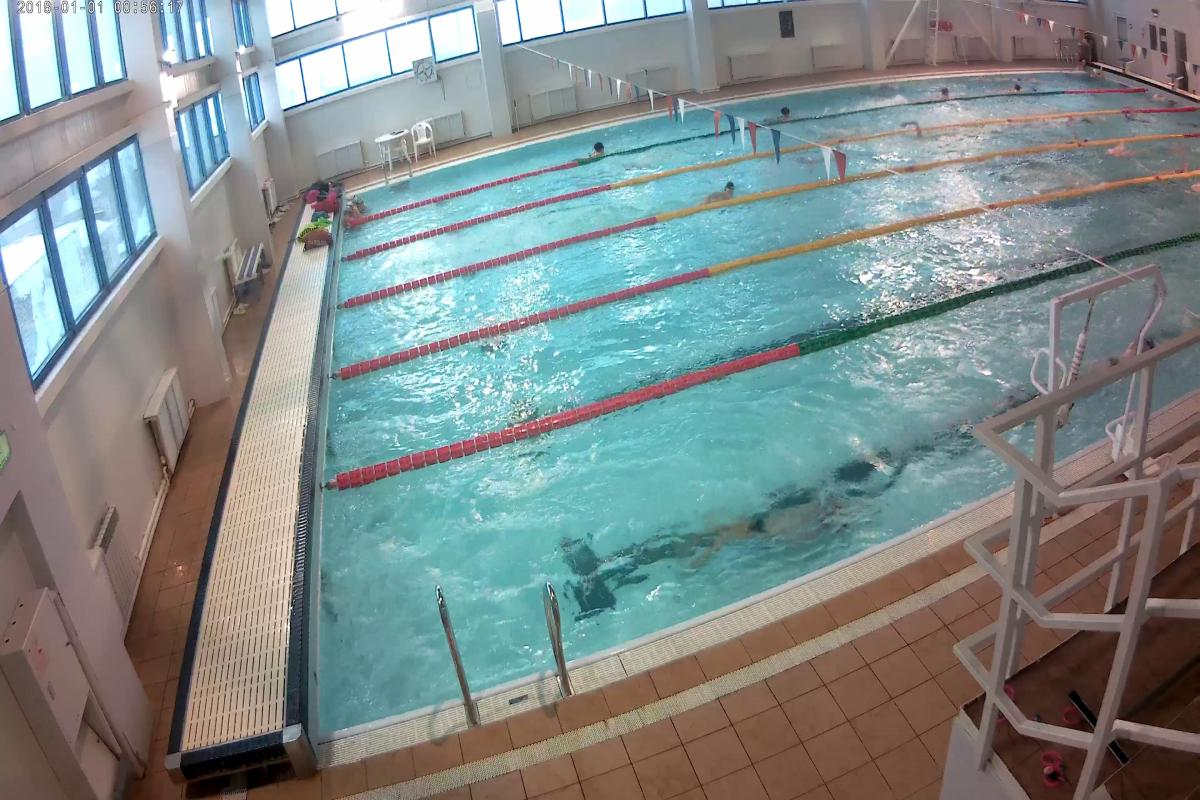swimmer: (706, 485, 856, 560), (699, 178, 743, 206)
